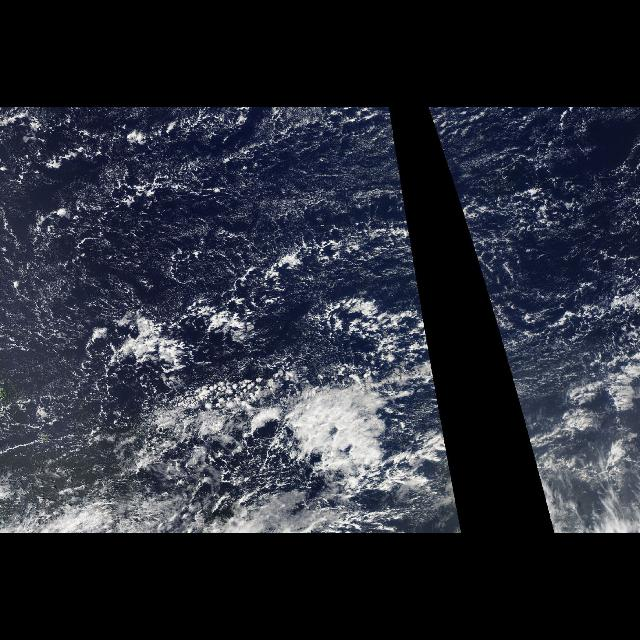Fish: (206, 198, 428, 346), (458, 198, 542, 346)
Gravel: (2, 113, 462, 533), (430, 115, 638, 532)
Sugar: (0, 108, 388, 226)
